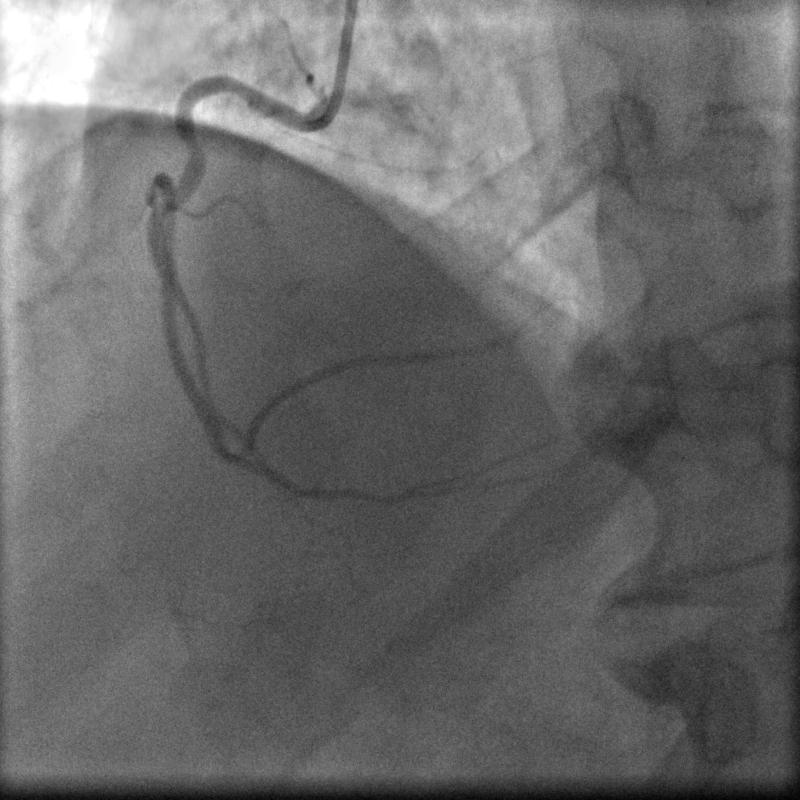Stenosis: (175, 131, 207, 161)
